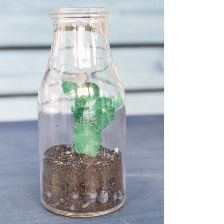bottle: (34, 3, 133, 218)
